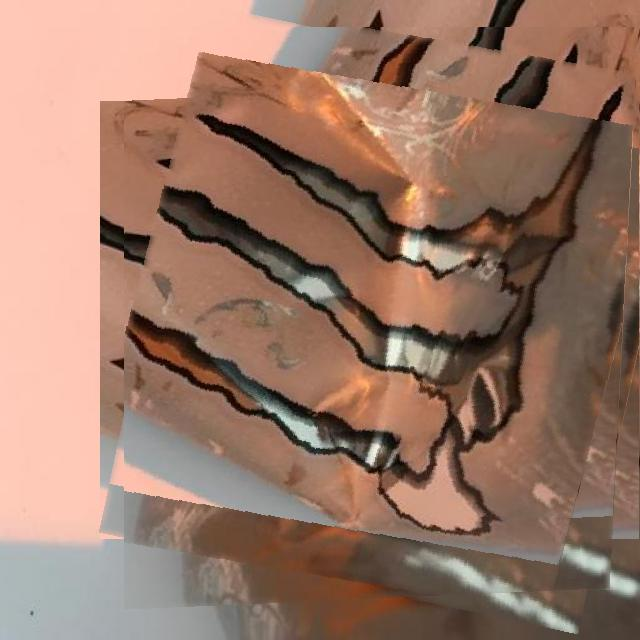recyclable: (124, 27, 640, 611)
